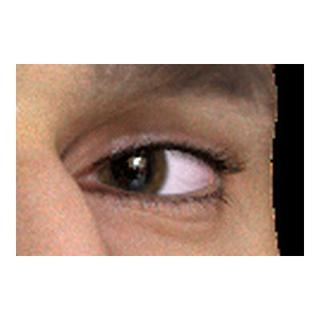pupil: (110, 148, 151, 188)
